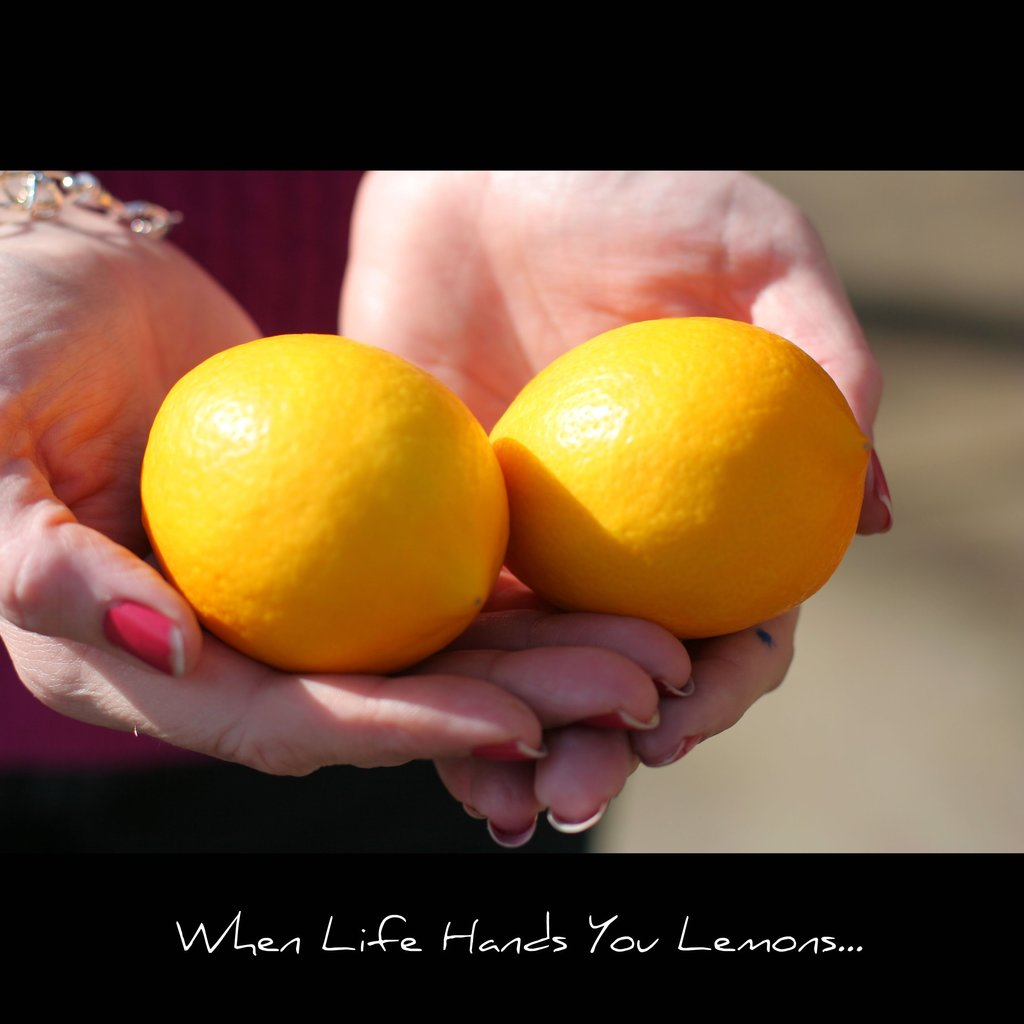Ripe: (136, 330, 517, 682), (457, 302, 864, 629)
